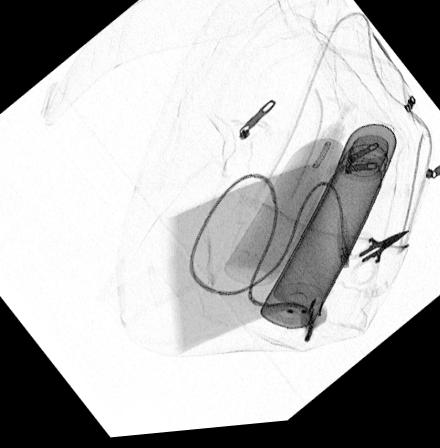Scissors: (342, 238, 409, 291)
